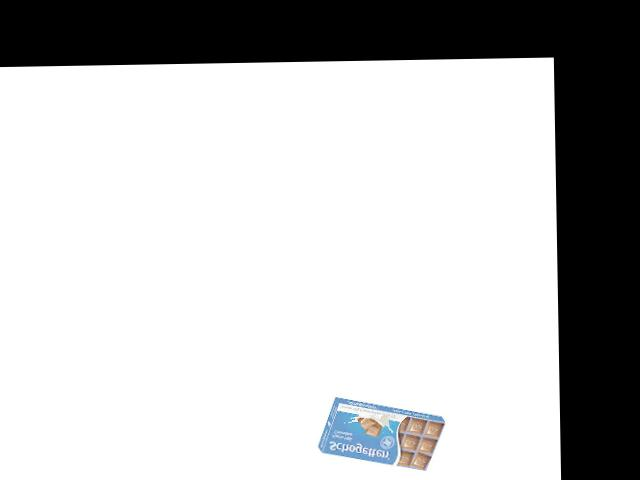chocolate: (314, 405, 447, 472)
